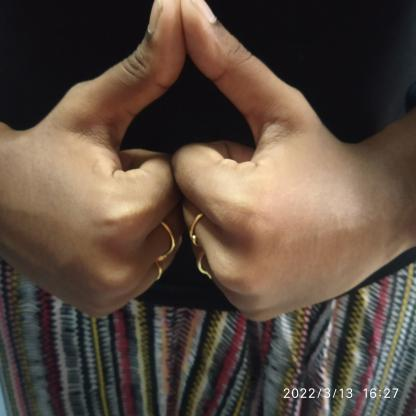A: (13, 3, 367, 324)
